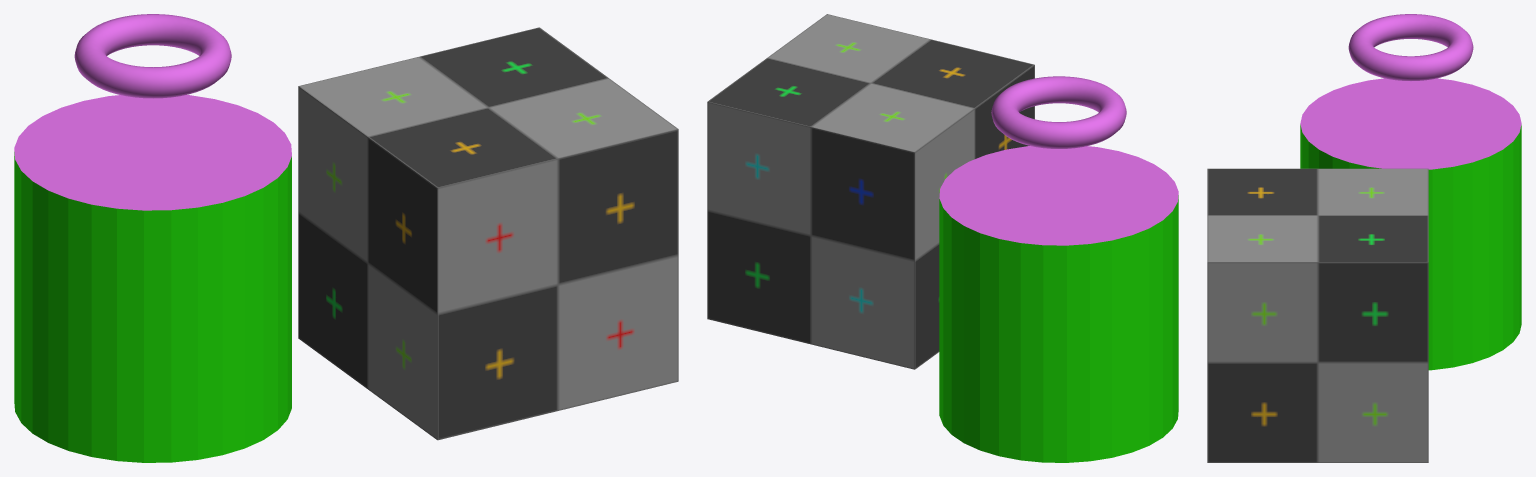
The picture shows the model from 3 angles, left to right: view 1: azimuth 30°, elevation 25°; view 2: azimuth 150°, elevation 25°; view 3: azimuth 270°, elevation 25°; orthographic projection. The views are drawn at different scales.
Visible parts, largest first — view 1: Cube; view 2: Cube; view 3: Cube.
Boxes of the visible parts, x1,y1,x2,y2 form: Cube: (14,14,678,462); Cube: (707,14,1178,462); Cube: (1207,14,1521,462).
Bounding box in the file's own units: 4.3 × 2.87 × 2.84.
Materials: 4 (2 with a texture image).
